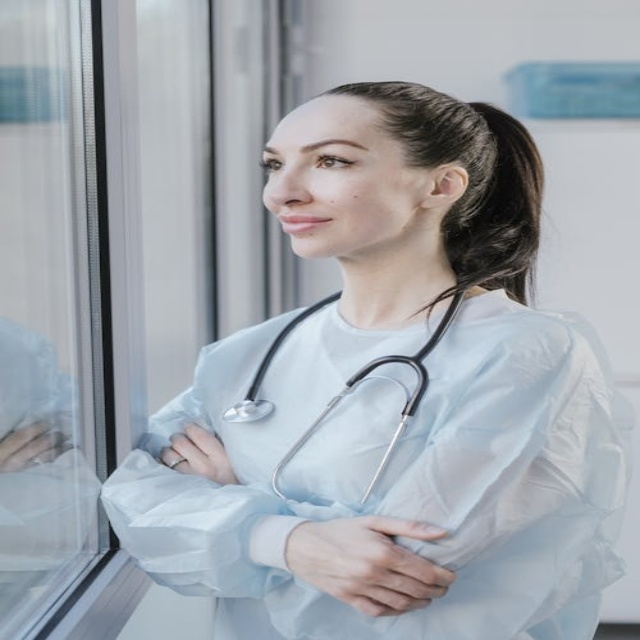Sin_gafas: (257, 142, 380, 183)
Sin_guantes: (274, 511, 458, 618), (160, 422, 239, 487), (0, 420, 72, 473)
Sin_mascara: (273, 209, 349, 253)
